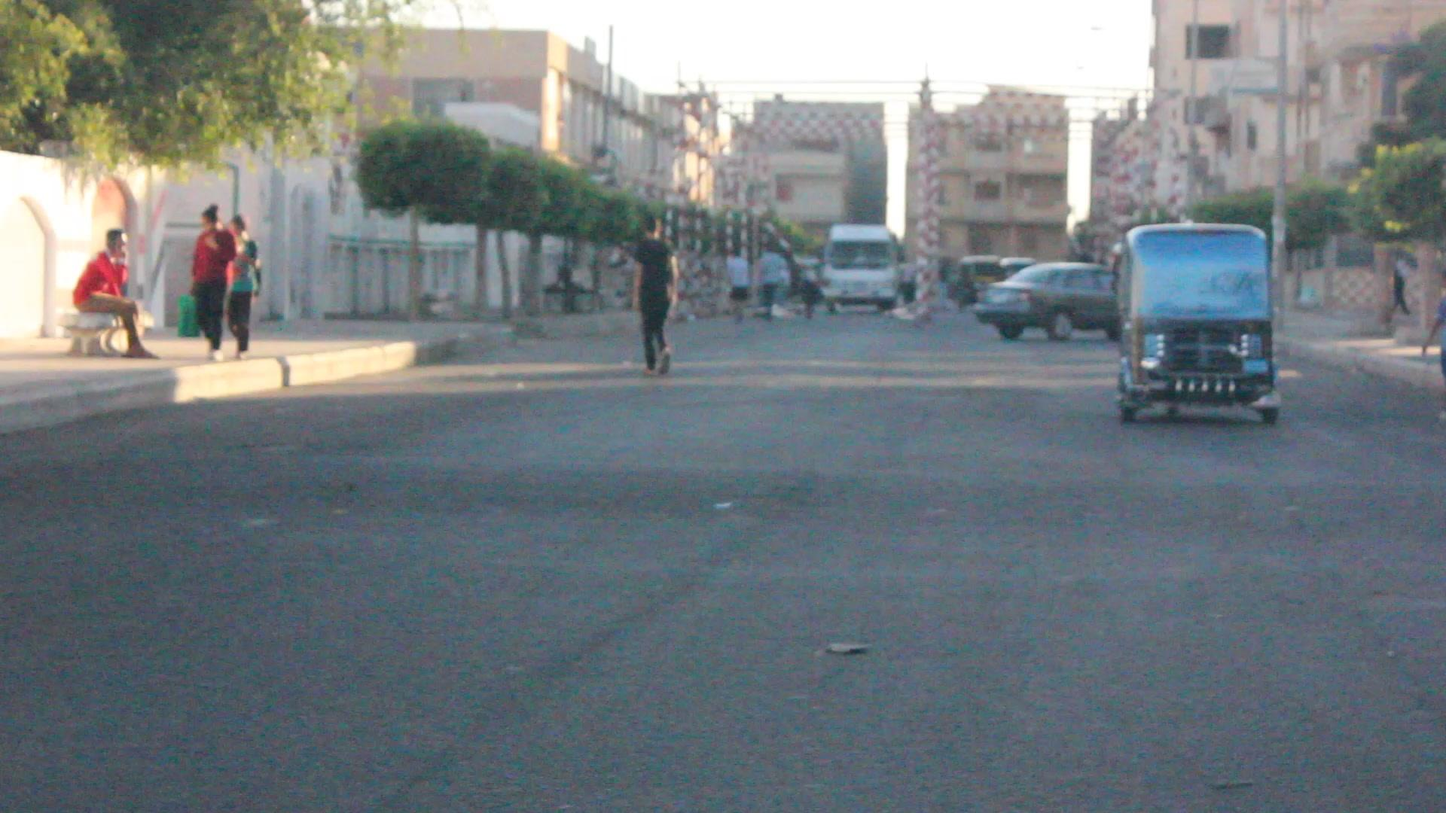Bump: (4, 438, 1446, 553)
